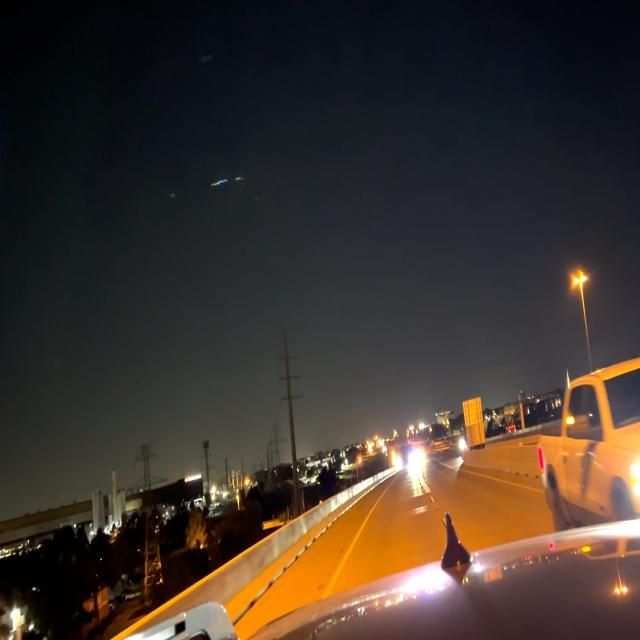back-of-sign: (463, 399, 485, 448)
